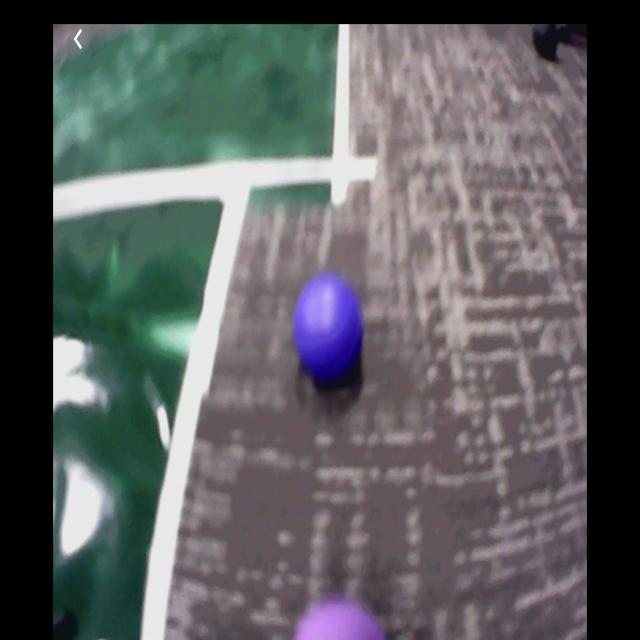ball: (295, 276, 362, 377), (296, 599, 382, 640)
